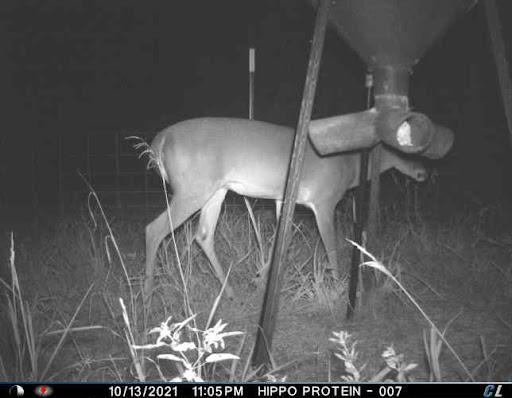Deer: (138, 111, 433, 311)
